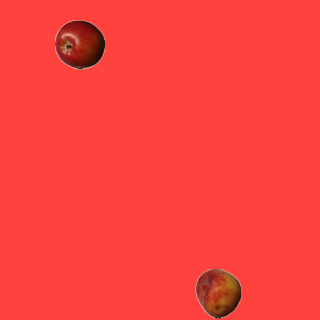Apple Braeburn: (54, 19, 104, 69)
Peach: (193, 268, 243, 318)
